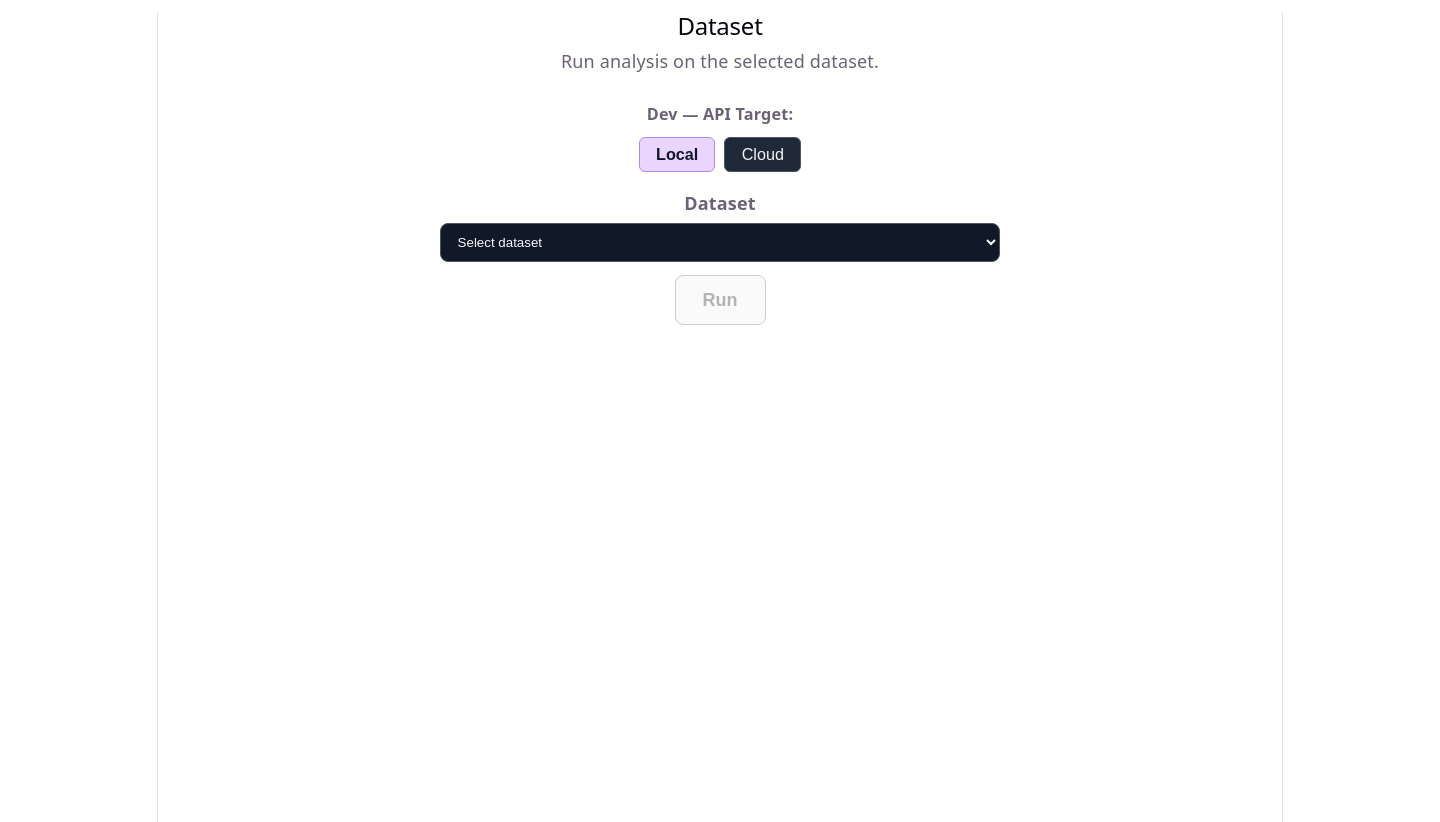
Scenario: DatasetTab › switches to cloud target when Cloud button is clicked
Step 1. Select "Sales CSV" in the dropdown labelled "Dataset" → (720, 243), box [440,223,1000,262]
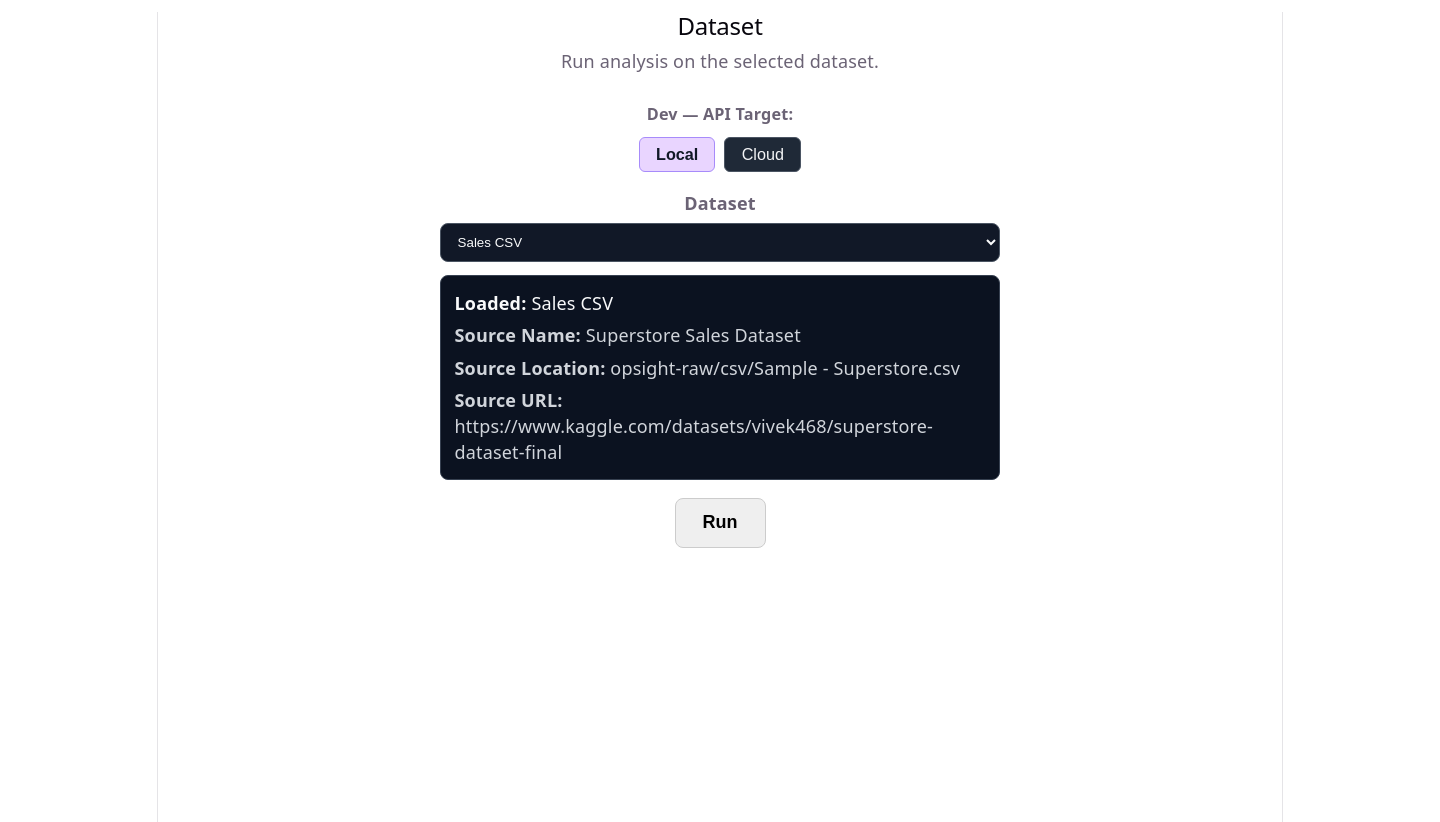
Step 2. Click the button "Cloud" → (763, 154), box [724,136,801,172]
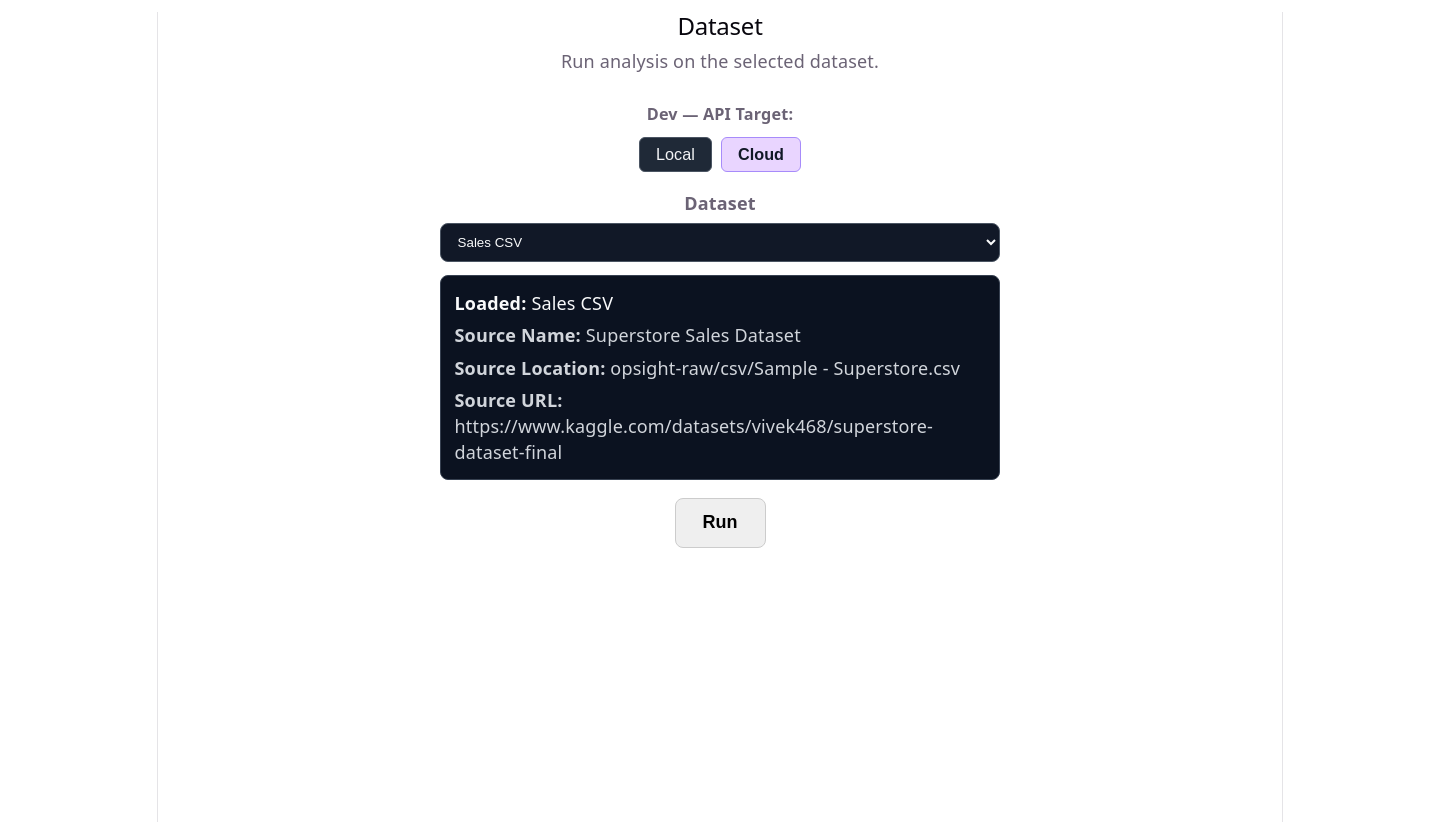
Step 3. Click the button "Run" → (720, 523), box [674,498,766,548]
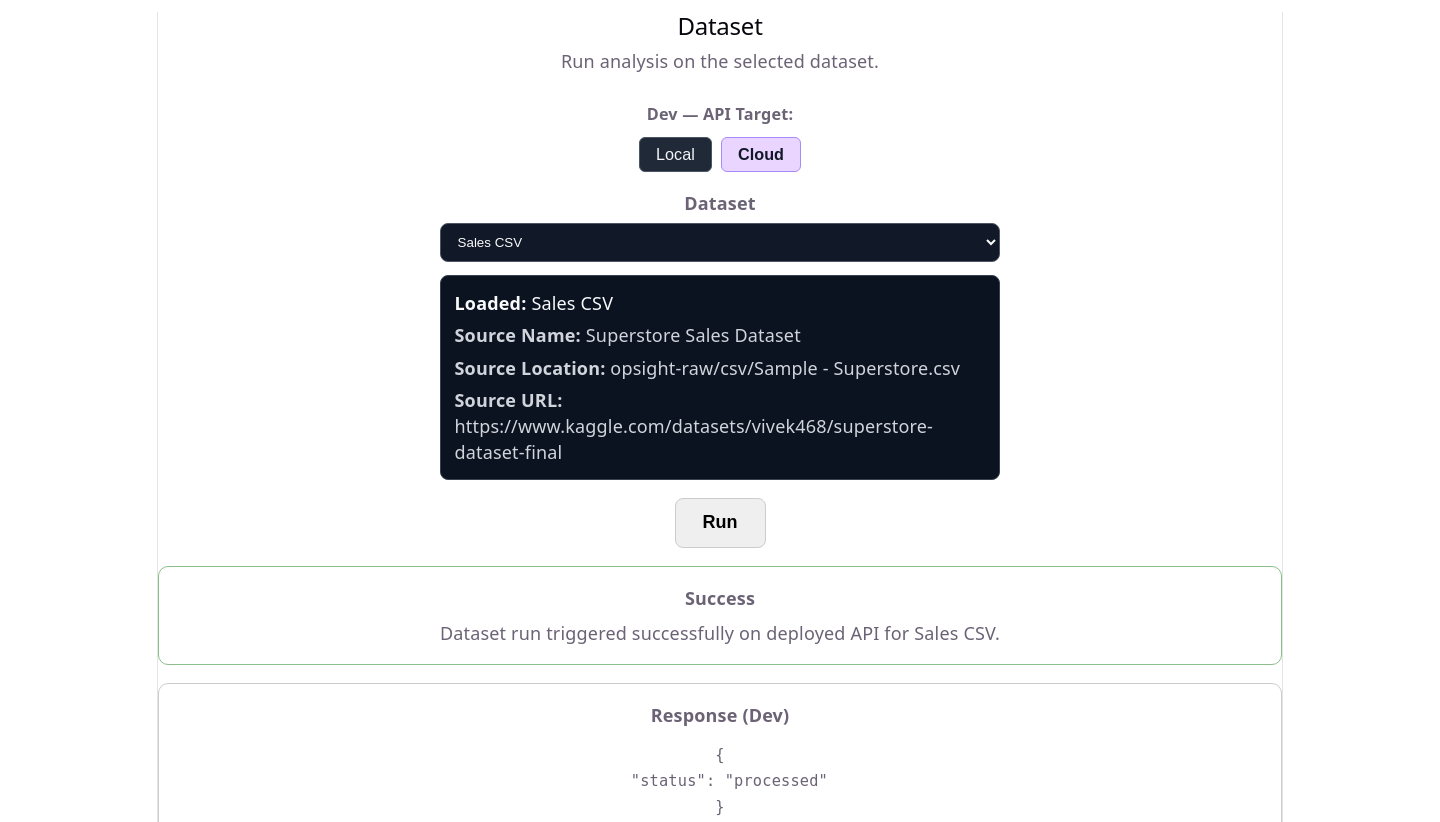
Check: the text "Dataset run triggered successfully on deployed API" is shown, box [440,621,1000,645]
